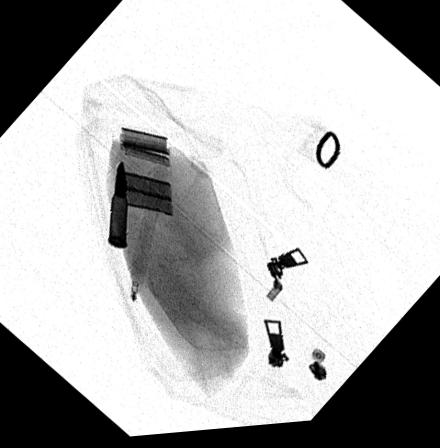Bullet: (106, 158, 128, 249)
